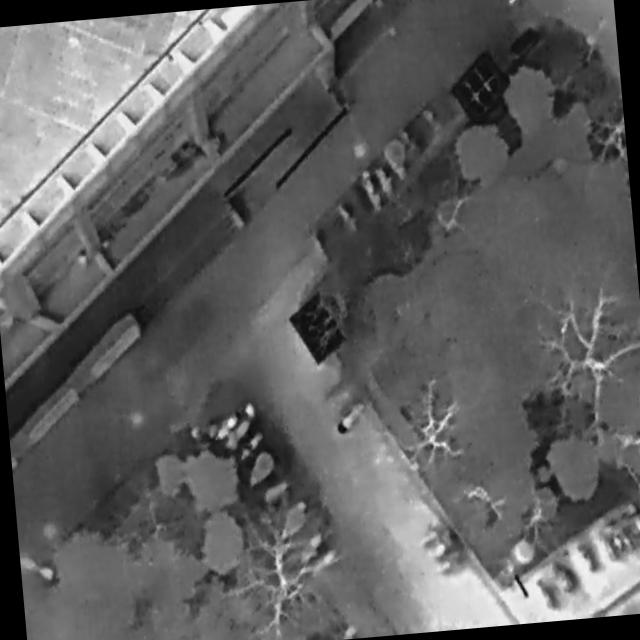person: (506, 1, 525, 9)
